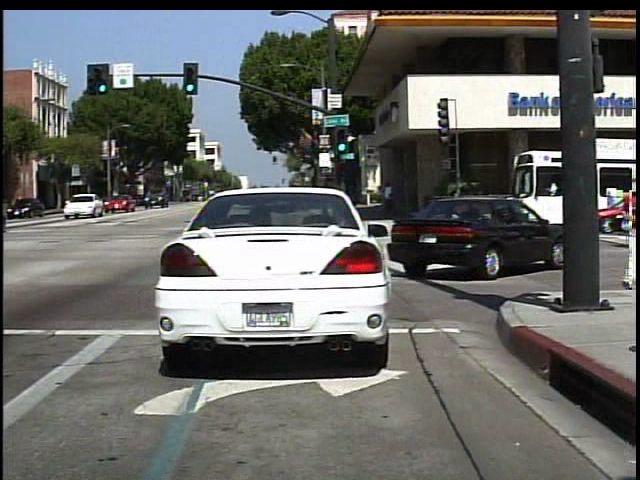person: (380, 177, 399, 219)
